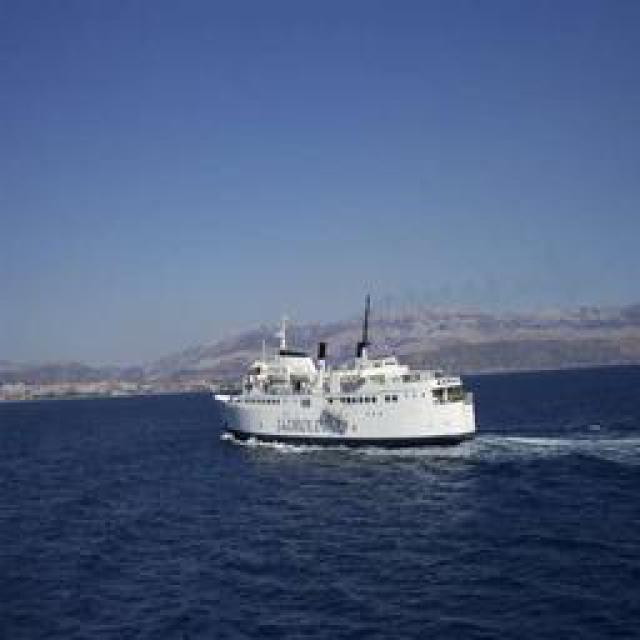Ship: (221, 302, 476, 450)
